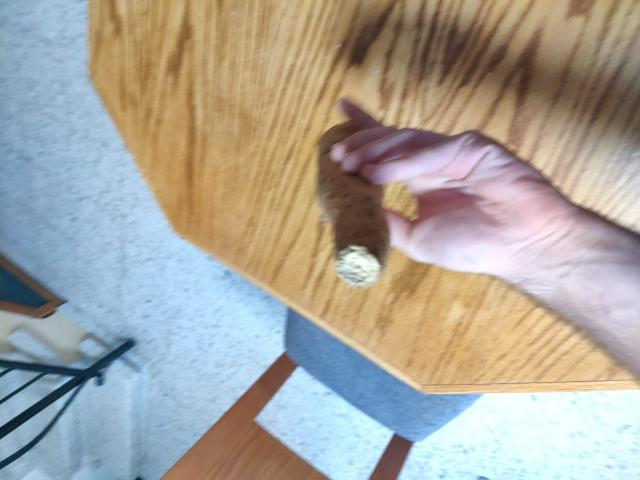sweet_potato: (311, 120, 366, 266)
